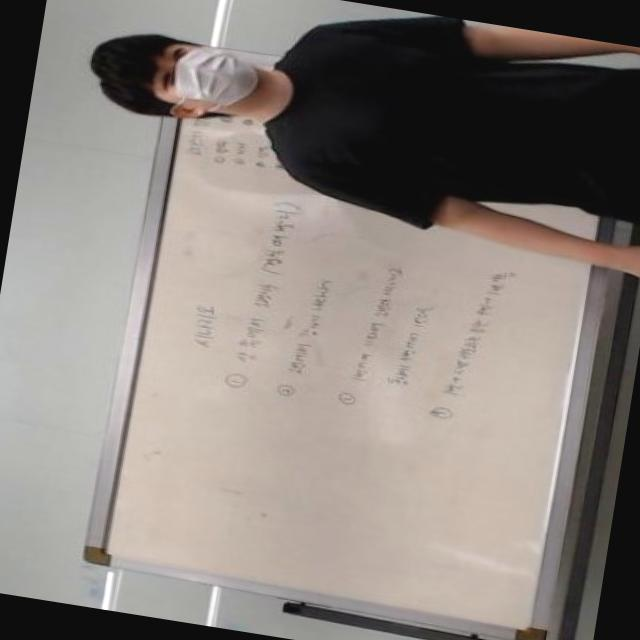Instructor: (69, 0, 640, 227)
White-board: (93, 48, 620, 638)
